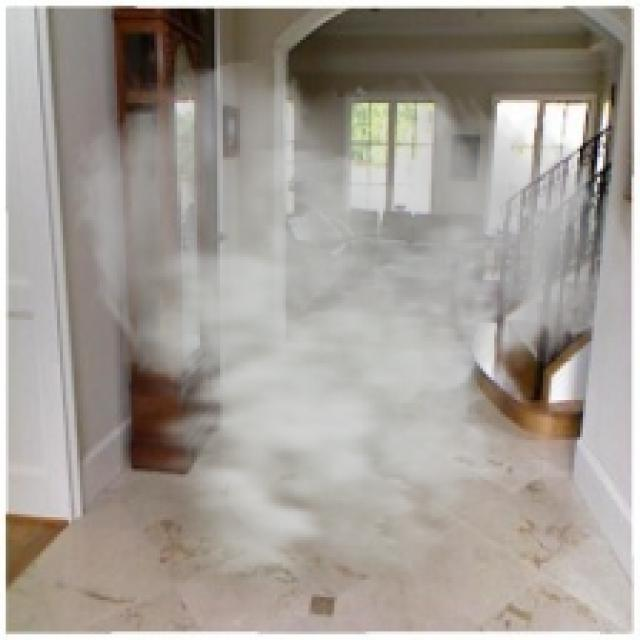Smoke: (66, 57, 634, 614)
